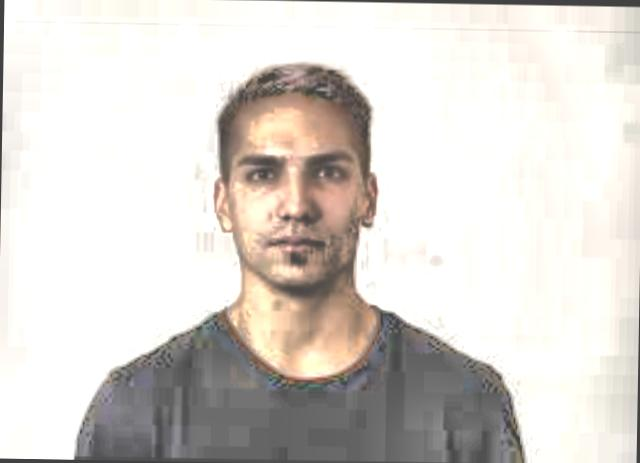neutral: (210, 97, 383, 287)
